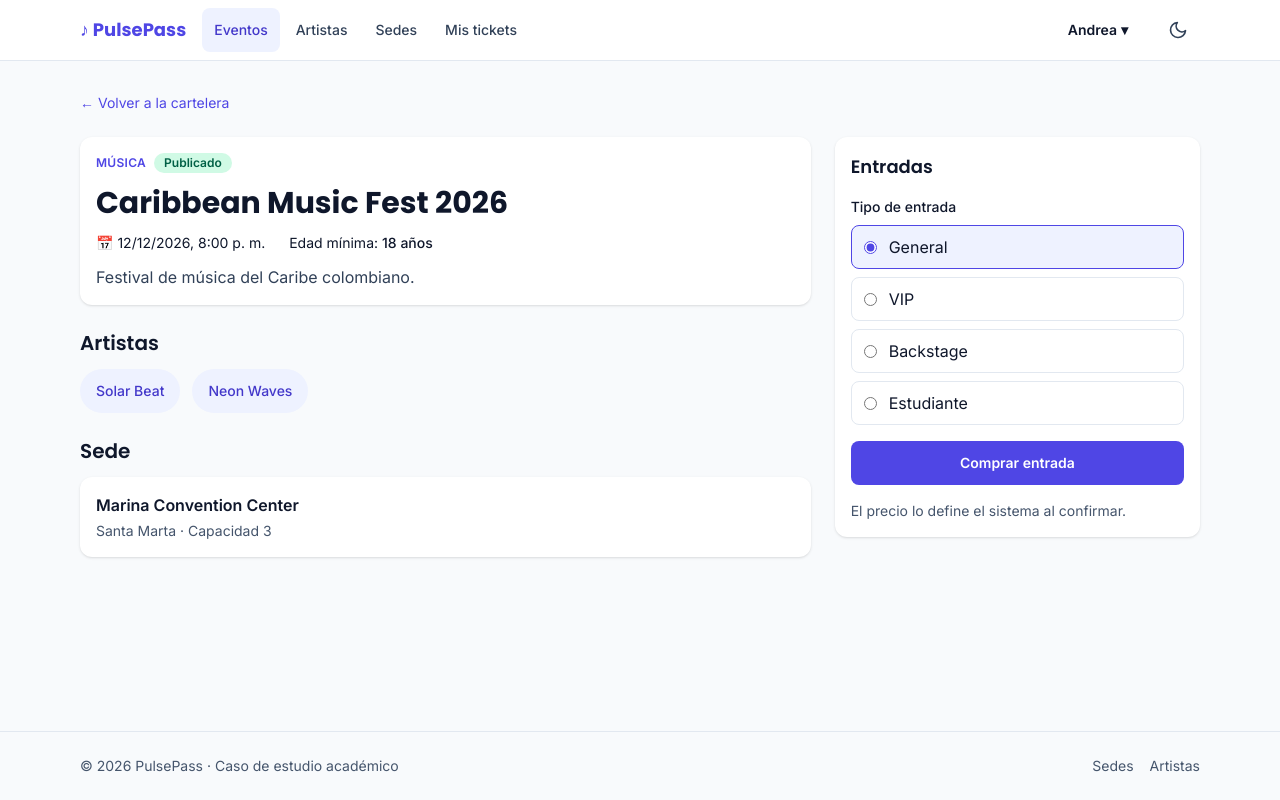
Detalle de evento › USER elige el tipo y abre la confirmación con ese tipo
The image size is (1280, 800).
Expected: the radio button labelled "General" is checked, [864,240,877,254]
Click the radio button labelled "VIP" at point(870, 299), box [864,292,877,306]
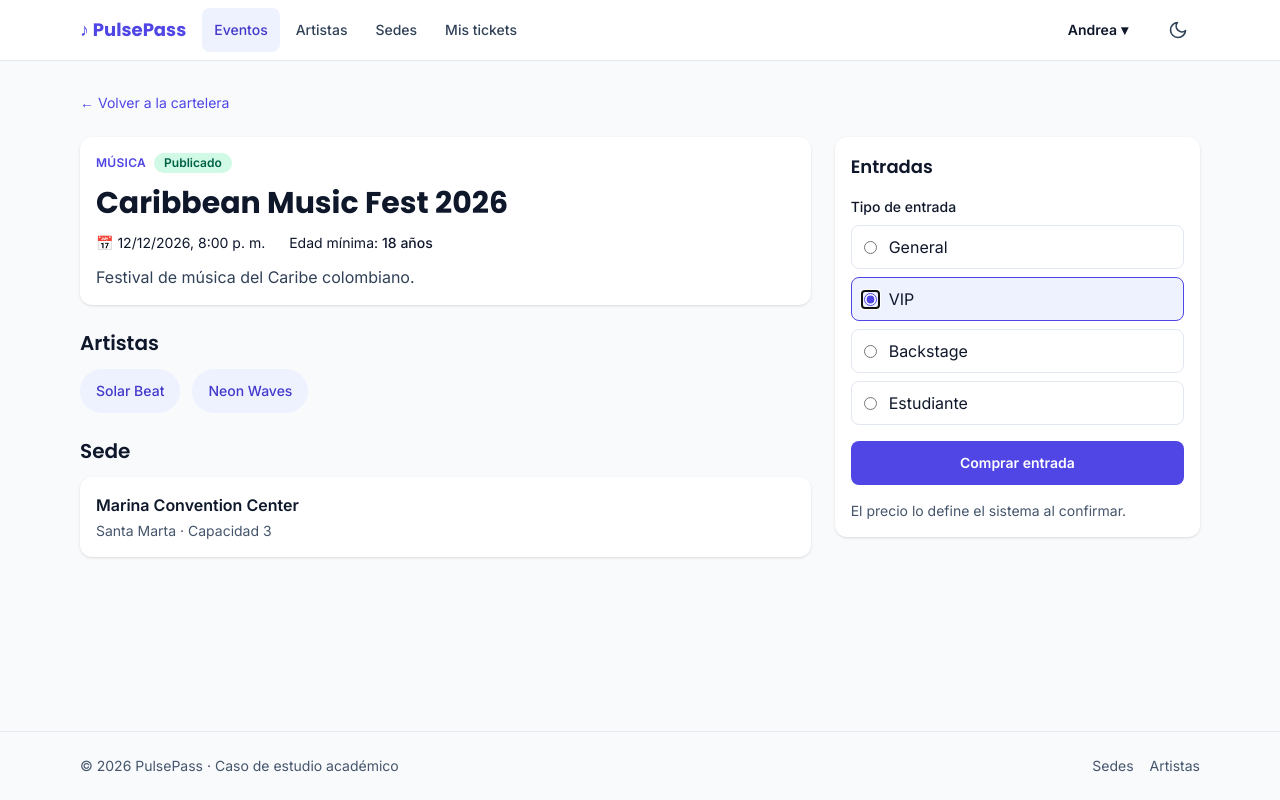
Click the button "Comprar entrada" at point(1017, 463), box [851,441,1184,485]
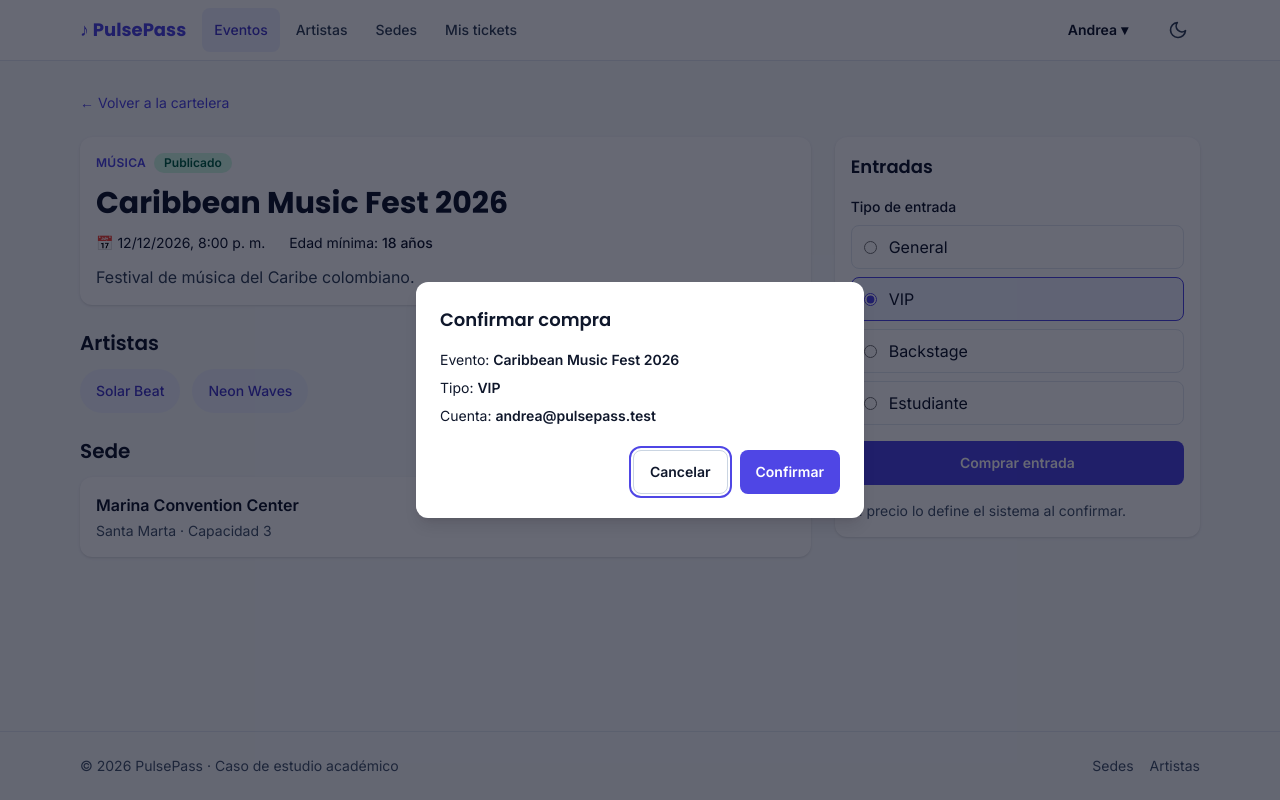
Expected: the dialog "Confirmar compra" shows "Tipo: VIP", [416,282,864,518]
Expected: the dialog "Confirmar compra" shows "Evento: Caribbean Music Fest 2026", [416,282,864,518]
